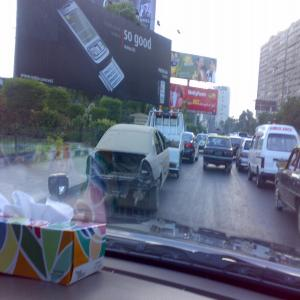Vehicle-registration-plate: (279, 163, 287, 169), (217, 152, 223, 157), (171, 165, 177, 169)
